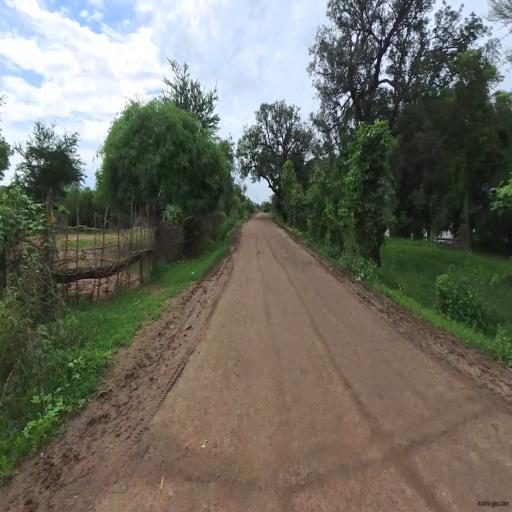longitudinal_crack: (141, 415, 466, 510), (275, 246, 363, 409)
